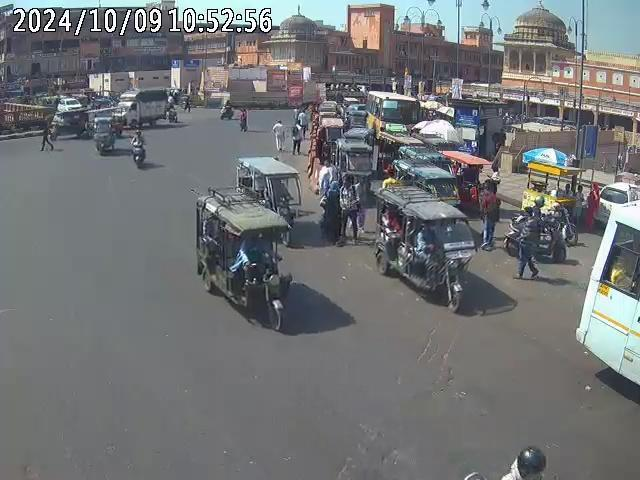auto: (192, 186, 293, 330), (372, 189, 477, 309), (443, 147, 493, 209), (90, 117, 116, 152)
bus: (575, 192, 639, 413), (363, 89, 422, 139)
car: (592, 181, 639, 232)
lorry: (118, 85, 170, 128)
person: (339, 173, 364, 242), (479, 179, 502, 250), (321, 181, 342, 242), (39, 118, 55, 151), (272, 119, 286, 152), (292, 118, 304, 154)
scooty: (508, 218, 569, 263)
scooty-rider: (128, 126, 148, 167)
vendor: (524, 154, 584, 224)
